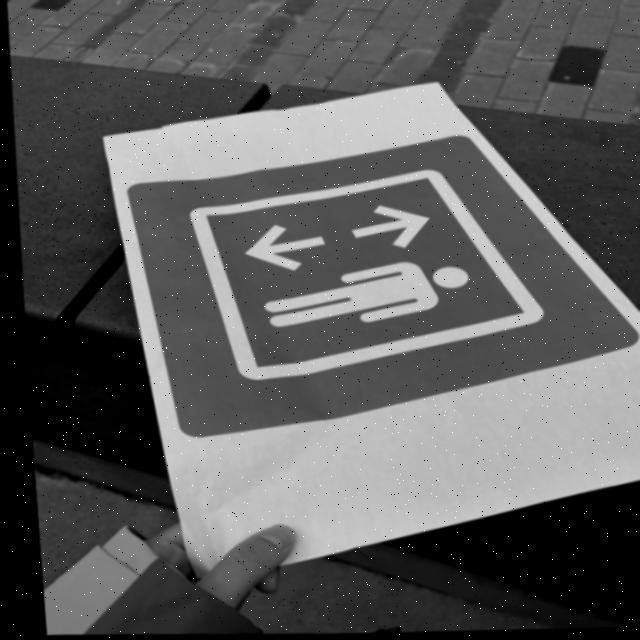elevator: (120, 136, 640, 434)
